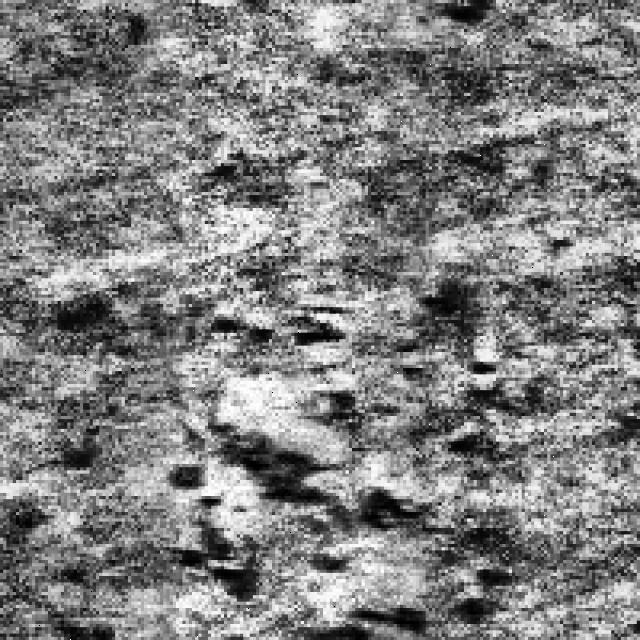Crazing: (99, 288, 499, 592), (150, 563, 522, 637)
